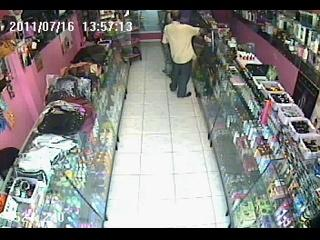Normal: (162, 11, 206, 98)
